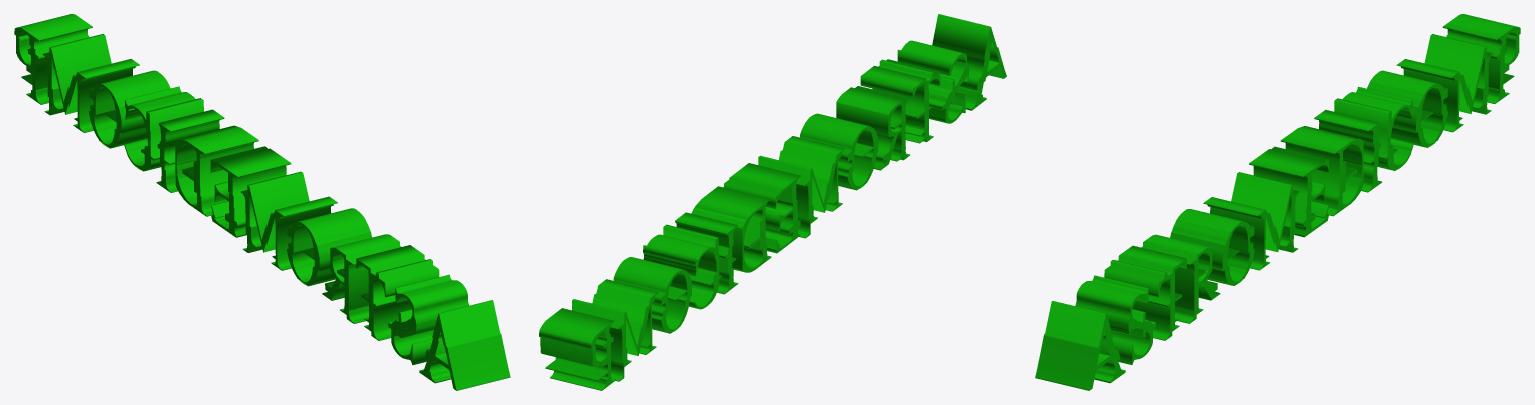
Rendered from AstromedicompFont.obj.
The picture shows the model from 3 angles, left to right: view 1: azimuth 30°, elevation 25°; view 2: azimuth 150°, elevation 25°; view 3: azimuth 330°, elevation 25°; orthographic projection. The views are drawn at different scales.
Parts seen in each view (by area): view 1: Text; view 2: Text; view 3: Text.
Boxes of the visible parts, x1,y1,x2,y2 form: Text: [14, 14, 510, 390]; Text: [539, 14, 1006, 390]; Text: [1035, 14, 1520, 390].
Size of the model in its own units: 0.9286 by 1.26 by 12.01.
